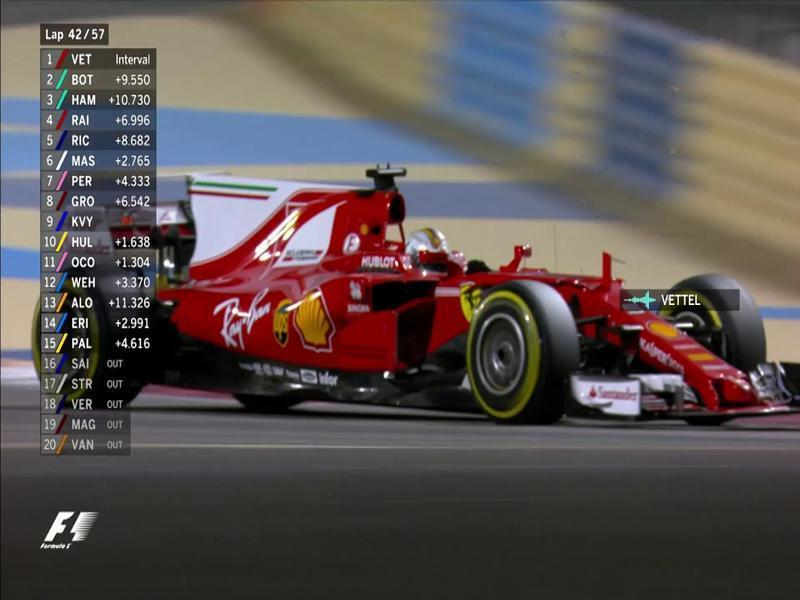f1: (43, 144, 800, 443)
